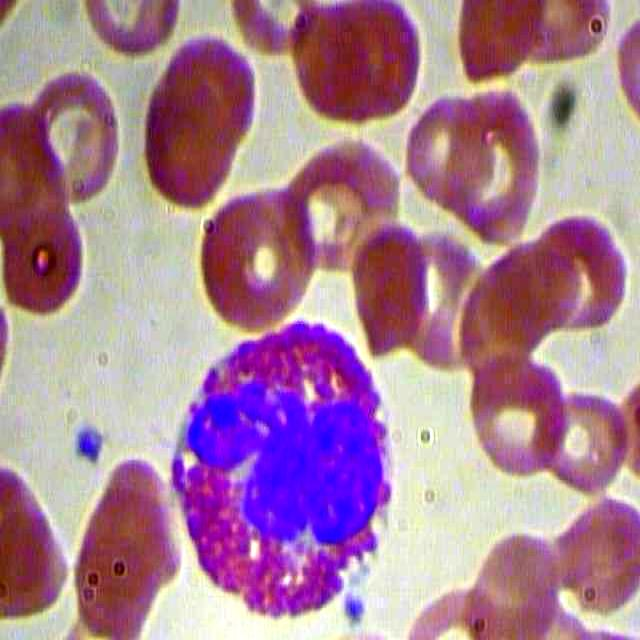Platelets: (74, 418, 109, 470)
RBC: (442, 87, 547, 253), (192, 182, 306, 330), (22, 62, 136, 210), (134, 64, 248, 212), (459, 356, 565, 488), (401, 76, 495, 224)
WBC: (159, 305, 403, 624)
